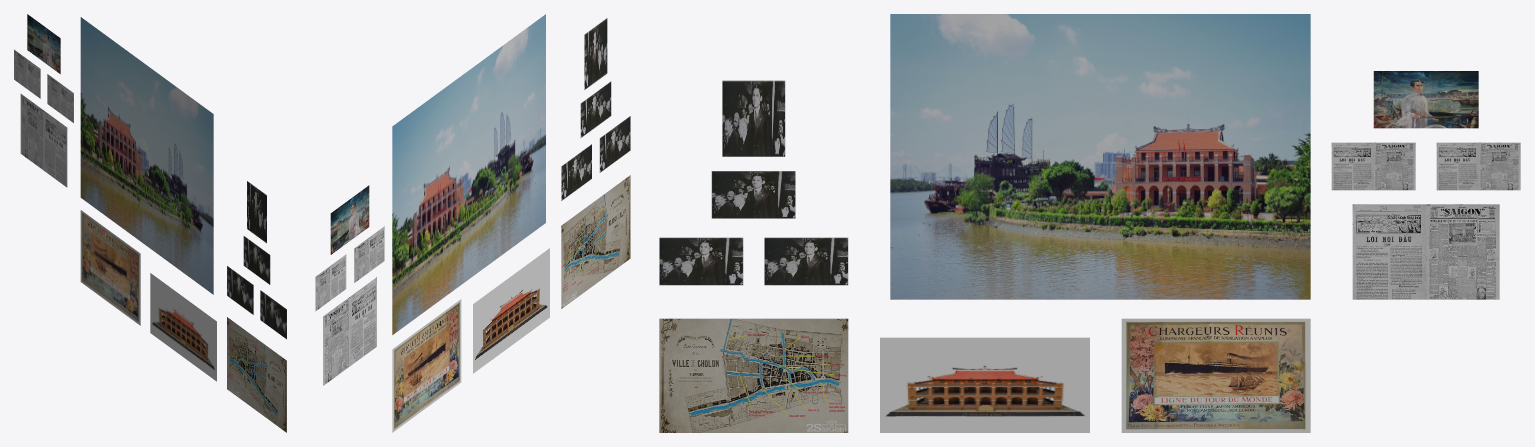
File: PhongThuNhatAB.glb
3 renders of one model, left to right at view 1: azimuth 30°, elevation 25°; view 2: azimuth 150°, elevation 25°; view 3: azimuth 270°, elevation 25°, orthographic. The views are drawn at different scales.
Parts seen in each view (by area): view 1: Plane.007, Plane, Plane.005, Plane.004, Plane.003, Plane.008, Plane.016, Plane.001, Plane.002, Plane.006, Plane.009, Plane.017; view 2: Plane.007, Plane.005, Plane, Plane.004, Plane.003, Plane.008, Plane.016, Plane.006, Plane.001, Plane.002, Plane.009, Plane.017; view 3: Plane.007, Plane, Plane.005, Plane.004, Plane.003, Plane.008, Plane.016, Plane.017, Plane.002, Plane.006, Plane.009, Plane.001.
Part boxes in pixels (x1=…): Plane.007: x1=80, y1=17, x2=213, y2=294; Plane: x1=80, y1=210, x2=140, y2=325; Plane.005: x1=227, y1=317, x2=286, y2=432; Plane.004: x1=150, y1=273, x2=216, y2=381; Plane.003: x1=20, y1=94, x2=67, y2=187; Plane.008: x1=27, y1=14, x2=60, y2=73; Plane.016: x1=247, y1=181, x2=266, y2=243; Plane.001: x1=243, y1=236, x2=270, y2=284; Plane.002: x1=14, y1=49, x2=40, y2=98; Plane.006: x1=260, y1=290, x2=286, y2=339; Plane.009: x1=47, y1=74, x2=73, y2=122; Plane.017: x1=227, y1=266, x2=253, y2=314; Plane.007: x1=392, y1=14, x2=545, y2=334; Plane.005: x1=561, y1=175, x2=630, y2=308; Plane: x1=392, y1=299, x2=461, y2=432; Plane.004: x1=473, y1=248, x2=549, y2=373; Plane.003: x1=323, y1=277, x2=376, y2=385; Plane.008: x1=330, y1=185, x2=369, y2=254; Plane.016: x1=584, y1=18, x2=607, y2=89; Plane.006: x1=599, y1=116, x2=630, y2=172; Plane.001: x1=580, y1=81, x2=611, y2=137; Plane.002: x1=315, y1=254, x2=346, y2=311; Plane.009: x1=354, y1=226, x2=384, y2=282; Plane.017: x1=561, y1=144, x2=591, y2=200; Plane.007: x1=890, y1=14, x2=1310, y2=299; Plane: x1=1121, y1=318, x2=1310, y2=432; Plane.005: x1=659, y1=318, x2=848, y2=432; Plane.004: x1=880, y1=337, x2=1089, y2=432; Plane.003: x1=1352, y1=204, x2=1499, y2=299; Plane.008: x1=1373, y1=71, x2=1478, y2=128; Plane.016: x1=722, y1=80, x2=785, y2=156; Plane.017: x1=764, y1=237, x2=848, y2=285; Plane.002: x1=1436, y1=142, x2=1520, y2=190; Plane.006: x1=659, y1=237, x2=743, y2=285; Plane.009: x1=1331, y1=142, x2=1415, y2=190; Plane.001: x1=711, y1=171, x2=795, y2=218.
Bounding box in the file's own units: 0 × 2.2 × 4.1.
Materials: 12 (12 with a texture image).
